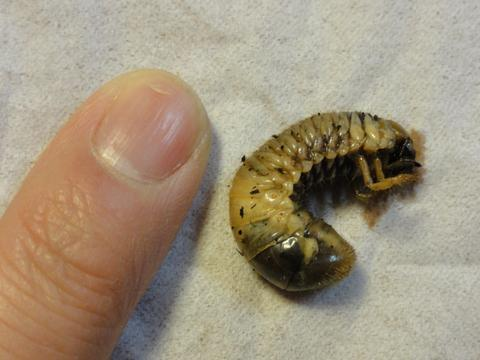caterpillars: (208, 66, 440, 321)
